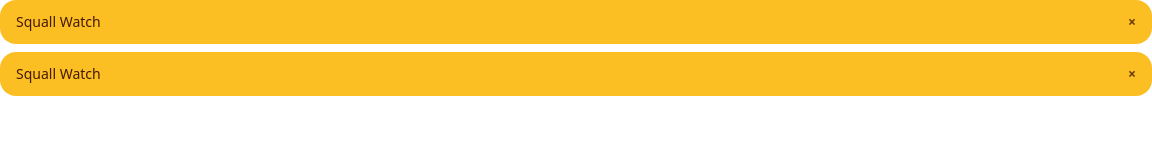
Test: AlertBanner › expands only the clicked duplicate, not its same-headline sibling
Click the 1st button "Squall Watch".
click(58, 22)  # box [16,12,1120,32]
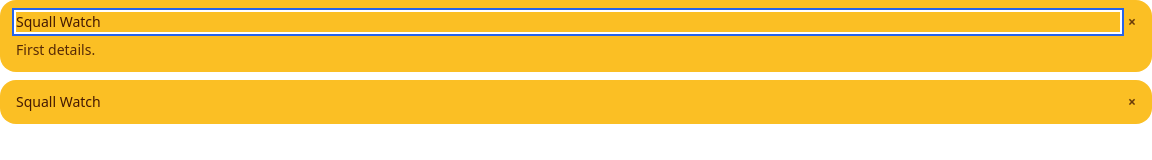
Now the text "First details." is shown, box [16,40,95,59]
